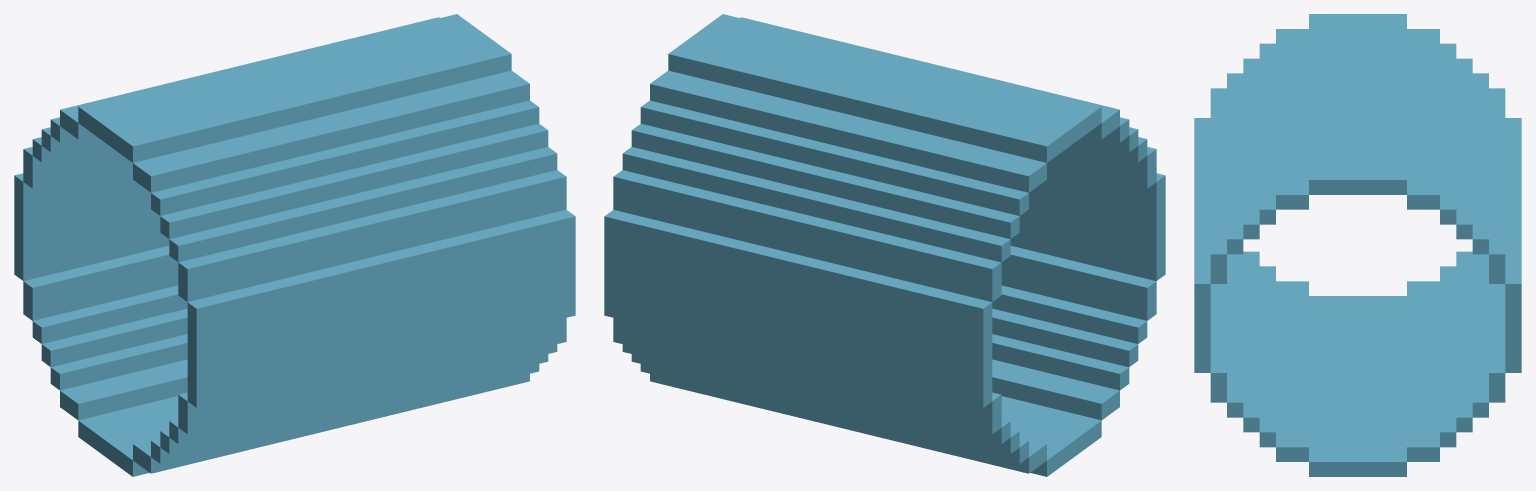
Rendered from Pipelength24.obj.
The picture shows the model from 3 angles, left to right: view 1: azimuth 30°, elevation 25°; view 2: azimuth 150°, elevation 25°; view 3: azimuth 270°, elevation 25°; orthographic projection. The views are drawn at different scales.
Bounding box in the file's own units: 24 × 20 × 20.
Materials: 1 (1 with a texture image).
